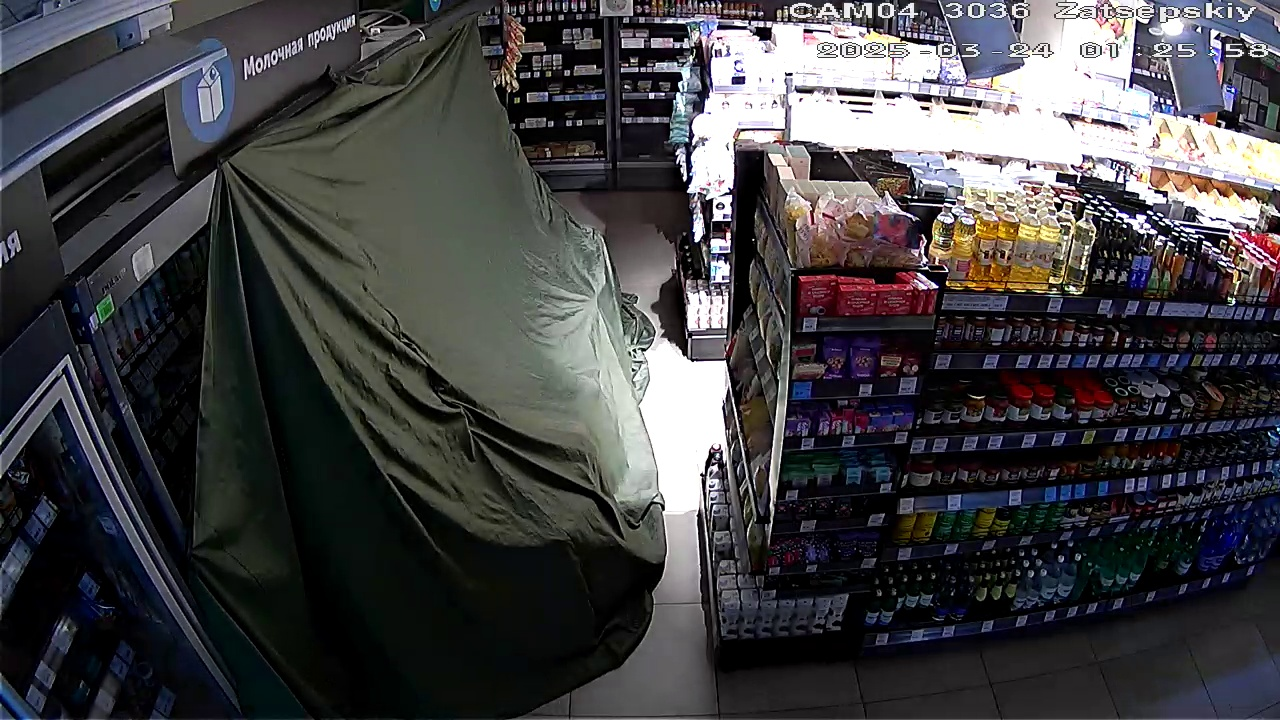dome: (141, 59, 686, 695)
